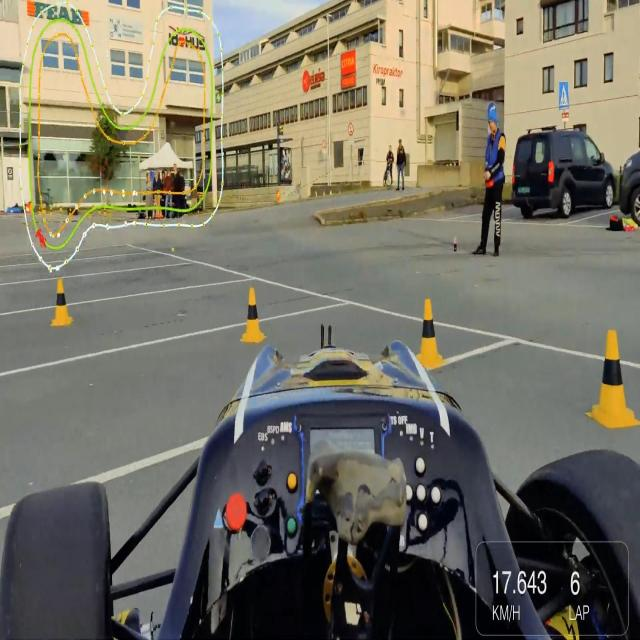yellow_cone: (587, 329, 640, 431), (414, 300, 447, 370), (240, 287, 267, 343), (52, 277, 73, 326)
